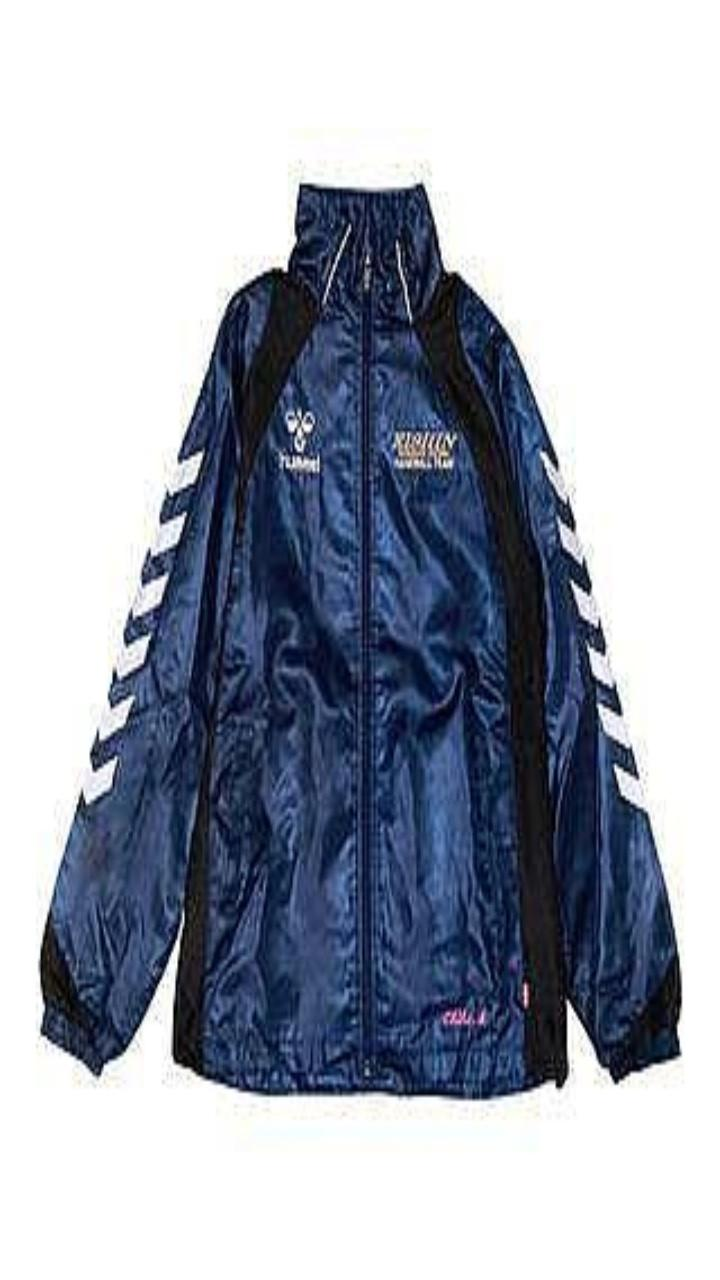Sports_Jacket: (41, 186, 679, 1095)
